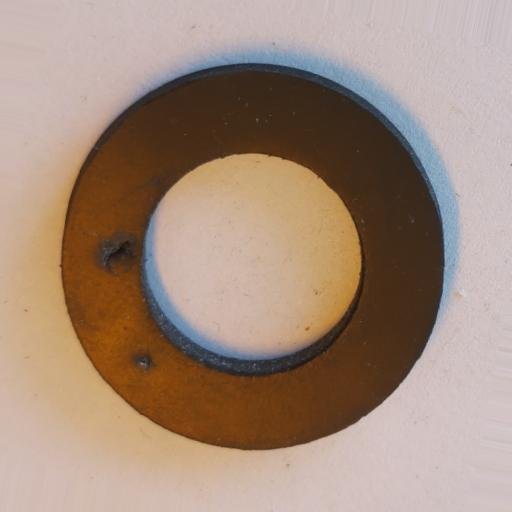defect: (94, 231, 139, 276), (134, 354, 153, 370)
